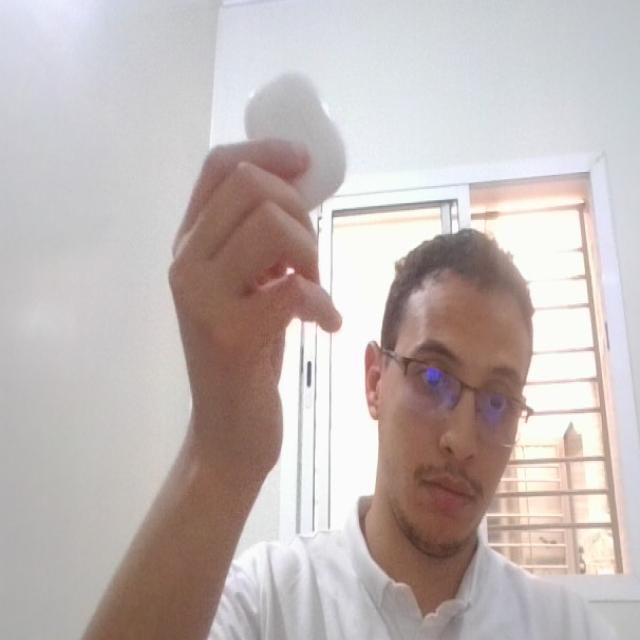airpods: (238, 65, 359, 213)
